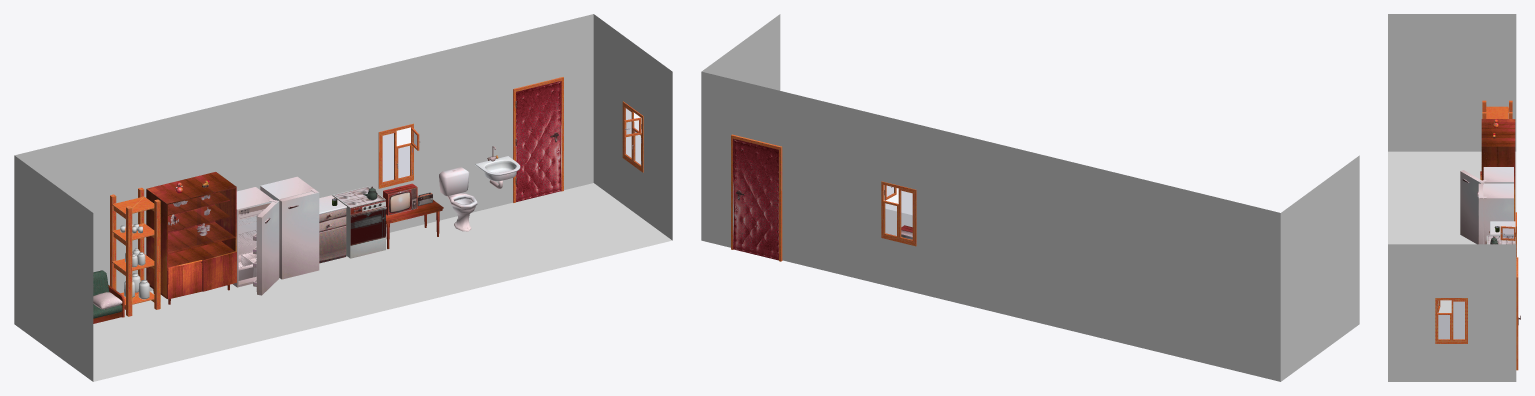
File: itchiosovpack1.fbx
3 renders of one model, left to right at view 1: azimuth 30°, elevation 25°; view 2: azimuth 150°, elevation 25°; view 3: azimuth 270°, elevation 25°, orthographic. The views are drawn at different scales.
Visible parts, largest first — view 1: room, closet, door, fridge, fridge.001, shelf, oven, main windows.001, kitchen shelf, toilet, main windows, sink (+4 smaller); view 2: room, door, main windows.001, jamb door; view 3: room, fridge.001, closet, fridge, main windows, shelf, jamb door, kitchen shelf, window leaf.001, oven.
Part boxes in pixels (box(x1,y1,x2,y2)): room: box(14, 14, 672, 381); closet: box(146, 172, 236, 304); door: box(515, 81, 561, 202); fridge: box(260, 176, 319, 279); fridge.001: box(232, 187, 279, 295); shelf: box(110, 187, 160, 316); oven: box(332, 186, 386, 258); main windows.001: box(378, 123, 413, 188); kitchen shelf: box(319, 195, 346, 263); toilet: box(439, 167, 477, 231); main windows: box(622, 101, 643, 172); sink: box(475, 146, 520, 188); room: box(701, 14, 1359, 381); door: box(733, 138, 778, 260); main windows.001: box(881, 181, 916, 246); jamb door: box(731, 134, 782, 261); room: box(1388, 14, 1516, 381); fridge.001: box(1460, 167, 1513, 244); closet: box(1480, 119, 1515, 221); fridge: box(1477, 183, 1513, 244); main windows: box(1435, 298, 1467, 343); shelf: box(1482, 100, 1512, 118); jamb door: box(1516, 257, 1518, 370); kitchen shelf: box(1489, 221, 1515, 235); window leaf.001: box(1500, 226, 1515, 240); oven: box(1485, 235, 1515, 244).
Size of the model in its own units: 1805 by 504 by 439.
